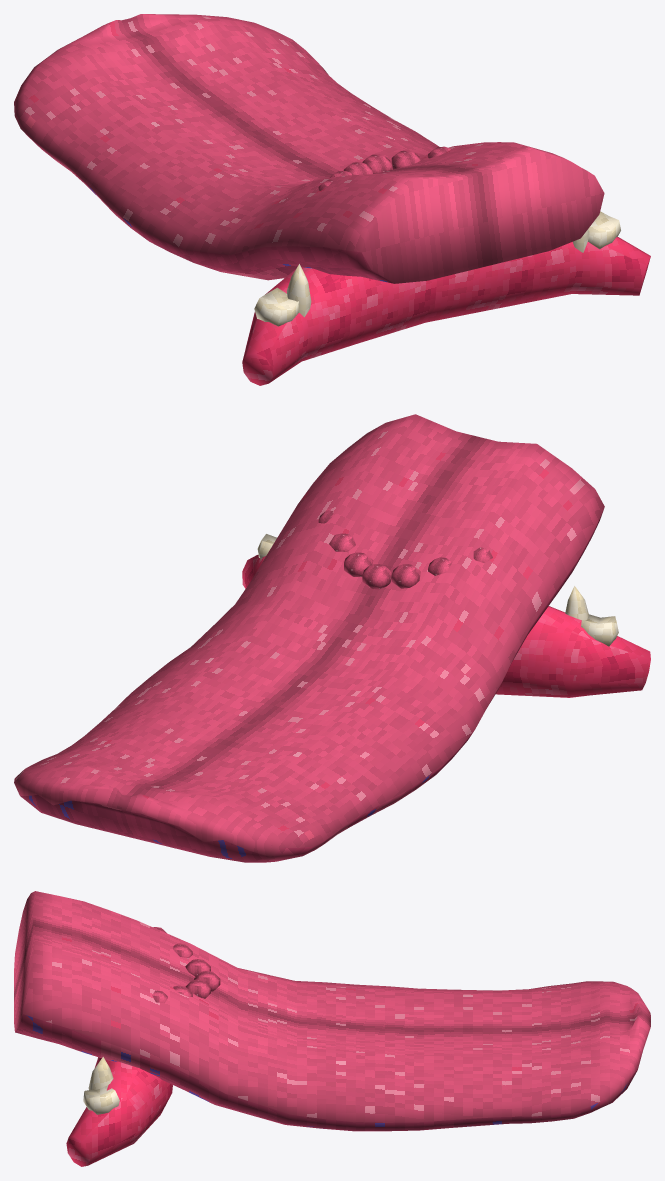
Rendered from s_tongue.glb.
3 renders of one model, top to bottom at view 1: azimuth 30°, elevation 25°; view 2: azimuth 150°, elevation 25°; view 3: azimuth 270°, elevation 25°, orthographic. The views are drawn at different scales.
Parts seen in each view (by area): view 1: tongue_tg_tongue_pulse, tongue_tg_lip_pulse, tongue_gut_enamel; view 2: tongue_tg_tongue_pulse, tongue_tg_lip_pulse, tongue_gut_enamel; view 3: tongue_tg_tongue_pulse, tongue_tg_lip_pulse, tongue_gut_enamel.
Boxes of the visible parts, <box> form: tongue_tg_tongue_pulse: <box>14,14,604,283</box>; tongue_tg_lip_pulse: <box>242,237,650,385</box>; tongue_gut_enamel: <box>254,211,620,326</box>; tongue_tg_tongue_pulse: <box>14,414,604,862</box>; tongue_tg_lip_pulse: <box>242,555,650,697</box>; tongue_gut_enamel: <box>257,534,618,646</box>; tongue_tg_tongue_pulse: <box>14,891,650,1131</box>; tongue_tg_lip_pulse: <box>66,1057,172,1166</box>; tongue_gut_enamel: <box>83,1057,119,1114</box>.
Size of what is drawn, in the model's own units: 2.21 by 1.05 by 3.46.
4 materials, 4 textured.
